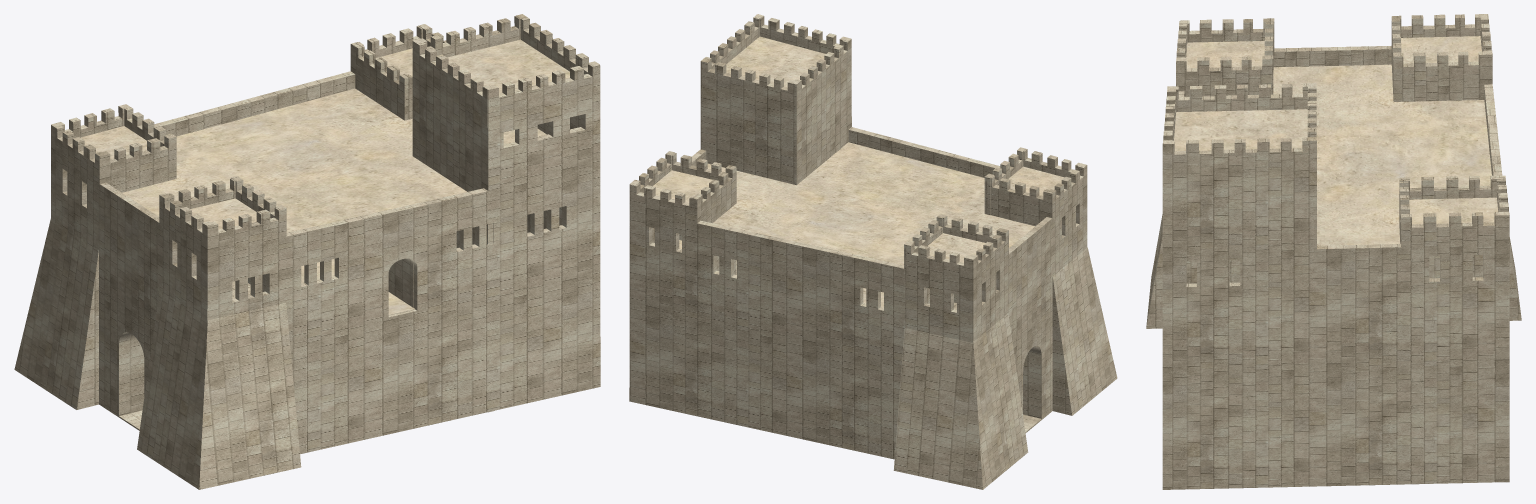
Rendered from Antonia.fbx.
The picture shows the model from 3 angles, left to right: view 1: azimuth 30°, elevation 25°; view 2: azimuth 150°, elevation 25°; view 3: azimuth 270°, elevation 25°; orthographic projection. The views are drawn at different scales.
Parts seen in each view (by area): view 1: walls, walls_4, concrete_6, walls_8, walls_7, walls_5, walls_2, walls_10, concrete_3, walls_12, walls_6, walls_9 (+4 smaller); view 2: walls_2, concrete_6, walls_5, walls_8, walls_12, walls_4, walls_7, walls, concrete_3, walls_6, walls_10, walls_9 (+4 smaller); view 3: walls_6, concrete_6, walls_9, walls_7, walls_8, concrete_3, walls_2, concrete, concrete_2, concrete_7, walls, walls_4 (+3 smaller).
Boxes of the visible parts, box(x1,y1,x2,y2) form: walls: box(207, 62, 600, 454); walls_4: box(137, 281, 301, 489); concrete_6: box(122, 88, 466, 232); walls_8: box(51, 124, 213, 430); walls_7: box(351, 39, 494, 412); walls_5: box(14, 219, 98, 409); walls_2: box(51, 25, 422, 137); walls_10: box(100, 74, 412, 192); concrete_3: box(447, 39, 569, 93); walls_12: box(167, 14, 526, 208); walls_6: box(418, 14, 600, 232); walls_9: box(124, 104, 286, 291); walls_2: box(629, 183, 973, 459); concrete_6: box(707, 142, 1034, 265); walls_5: box(893, 302, 1028, 489); walls_8: box(971, 163, 1087, 432); walls_12: box(701, 58, 1048, 226); walls_4: box(1052, 247, 1117, 415); walls_7: box(692, 37, 851, 270); walls: box(755, 14, 1087, 198); concrete_3: box(726, 36, 825, 87); walls_6: box(629, 14, 762, 242); walls_10: box(672, 153, 1002, 302); walls_9: box(904, 147, 1025, 303); walls_6: box(1163, 137, 1508, 489); concrete_6: box(1273, 64, 1491, 245); walls_9: box(1177, 51, 1491, 101); walls_7: box(1168, 83, 1505, 283); walls_8: box(1180, 14, 1487, 67); concrete_3: box(1174, 109, 1307, 151); walls_2: box(1480, 14, 1509, 482); concrete: box(1409, 197, 1498, 224); concrete_2: box(1401, 36, 1481, 63); concrete_7: box(1186, 41, 1264, 68); walls: box(1162, 21, 1187, 489); walls_4: box(1146, 214, 1162, 328).
Bounding box in the file's own units: 1933 × 1411 × 1387.
